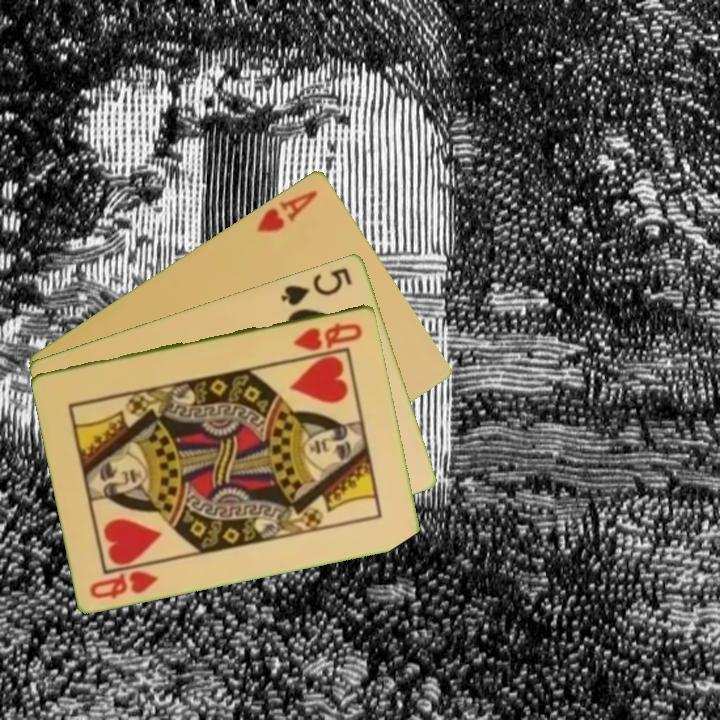5s: (277, 263, 355, 308)
Ah: (252, 186, 321, 235)
Qh: (86, 566, 162, 601), (290, 319, 366, 353)
